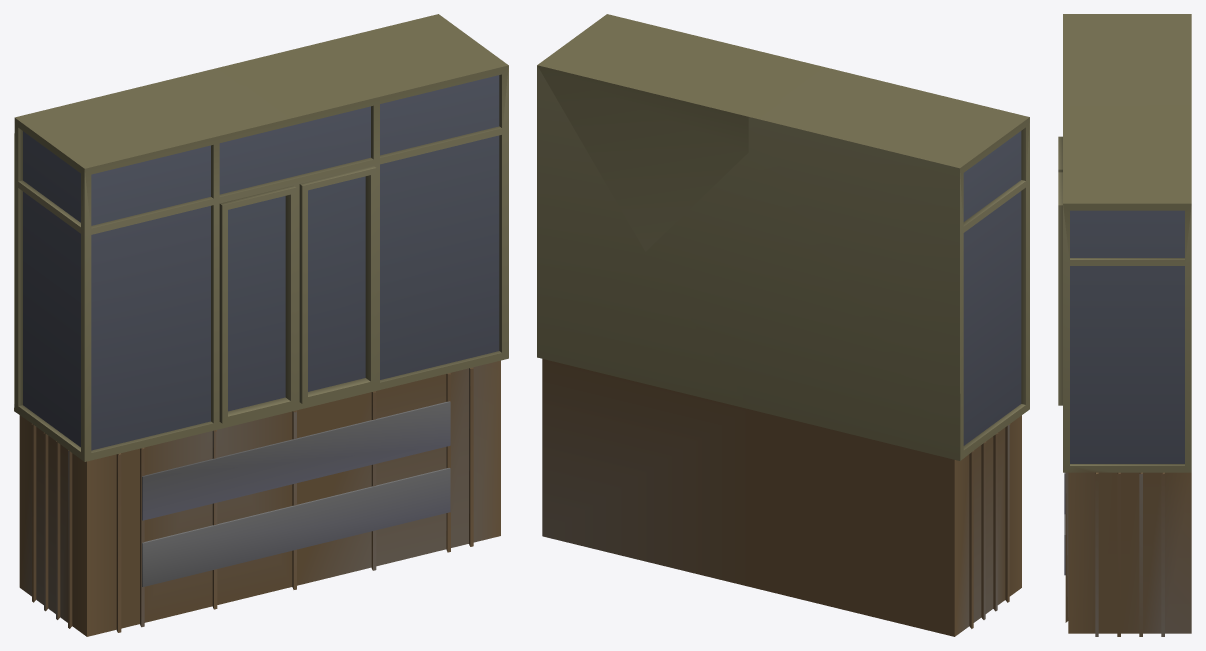
Rendered from The balcony is closed 2.fbx.
The picture shows the model from 3 angles, left to right: view 1: azimuth 30°, elevation 25°; view 2: azimuth 150°, elevation 25°; view 3: azimuth 270°, elevation 25°; orthographic projection. The views are drawn at different scales.
Parts seen in each view (by area): view 1: Cube.499; view 2: Cube.499; view 3: Cube.499.
Part boxes in pixels (bbox=[...]): Cube.499: bbox=[14, 14, 508, 636]; Cube.499: bbox=[537, 14, 1029, 636]; Cube.499: bbox=[1058, 14, 1191, 636].
Bounding box in the file's own units: 686 × 731 × 204.
